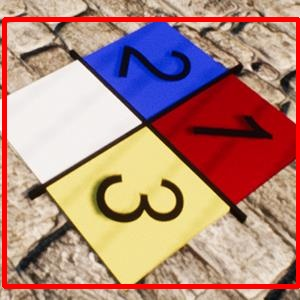nfpa: (4, 19, 298, 286)
